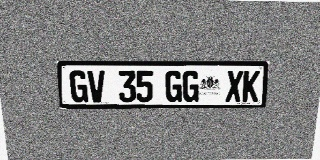3: (118, 70, 136, 102)
5: (136, 70, 153, 102)
G: (69, 70, 88, 102), (182, 70, 200, 102), (165, 70, 182, 102)
K: (242, 70, 260, 102)
V: (87, 70, 106, 102)
X: (225, 70, 243, 102)
